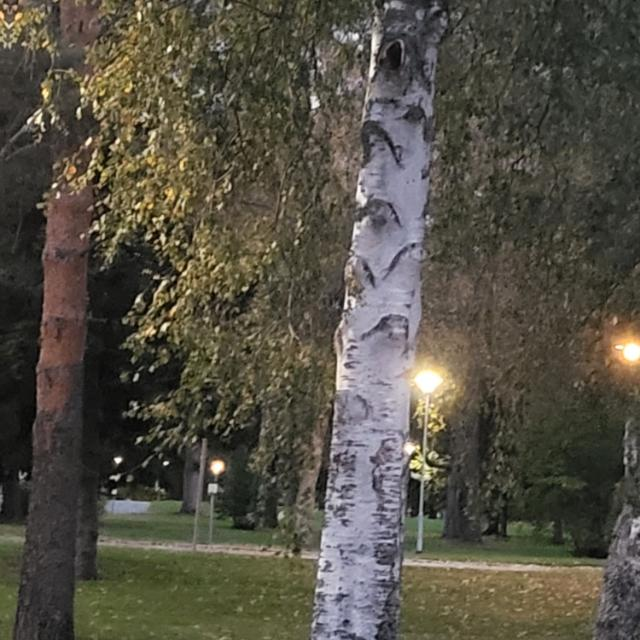birch: (227, 0, 475, 640)
